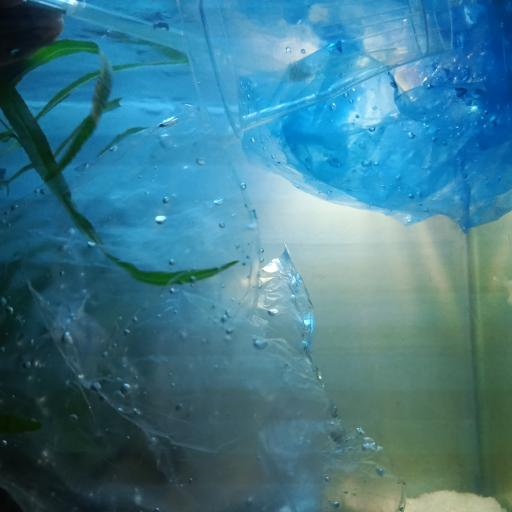plastic_bag: (0, 102, 412, 512), (234, 0, 512, 236)
plastic_cup: (168, 0, 456, 144)
plastic_straw: (40, 0, 297, 80)
